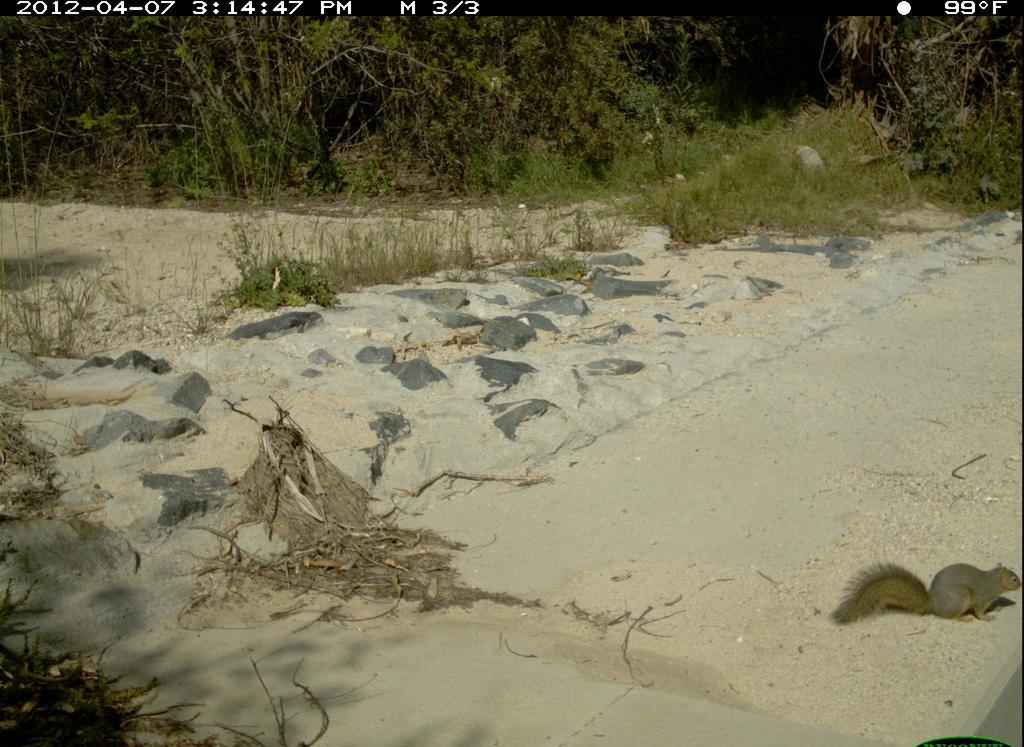squirrel: (827, 546, 1023, 632)
